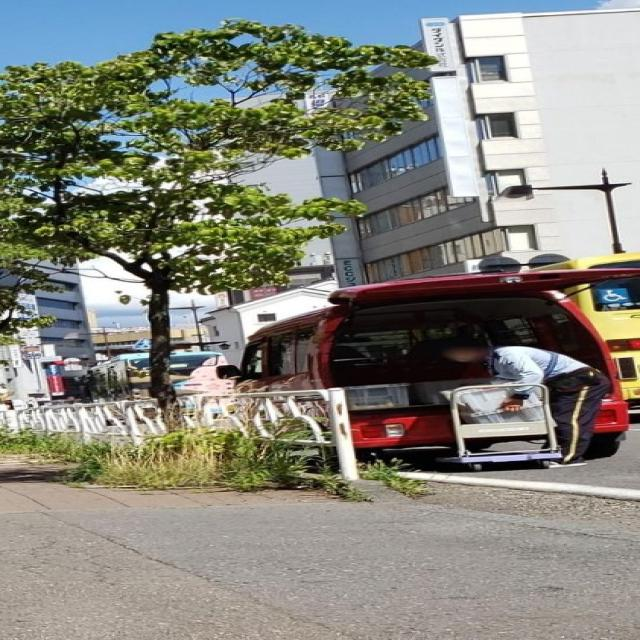dogwood: (0, 17, 442, 471)
